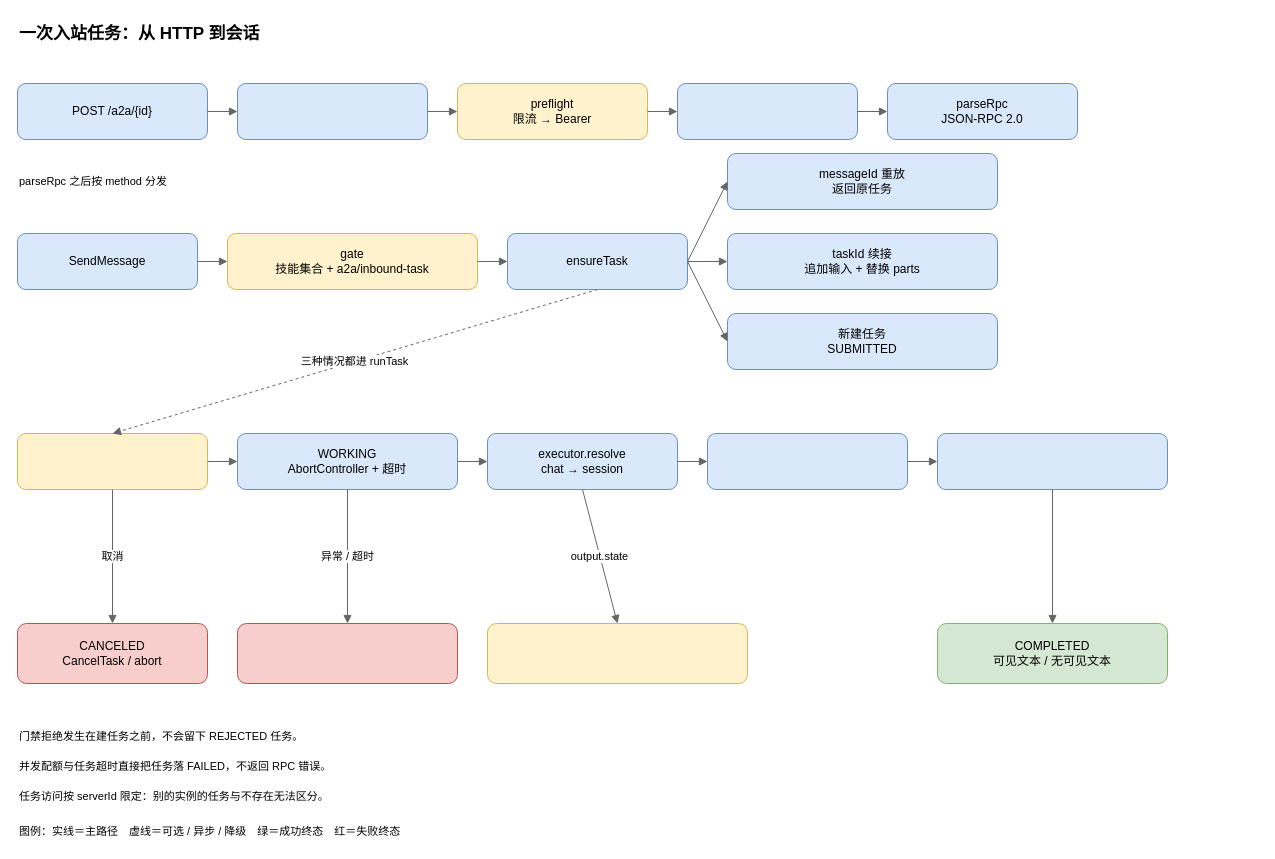
This 1275x859 diagram has some shape labels left out. Here are the shapes that lost their labels. From the top down, the centre of each, then its label:
At [332,111]: "读 body maxBodyBytes".
At [767,111]: "A2A-Version 主次版本".
At [112,461]: "runTask 并发配额".
At [807,461]: "ContextSessionPool 一轮对话".
At [1052,461]: "artifact / status / trace 写 store + SSE".
At [347,653]: "FAILED 异常 / 超时 / 配额".
At [617,653]: "INPUT_REQUIRED / AUTH_REQUIRED".
